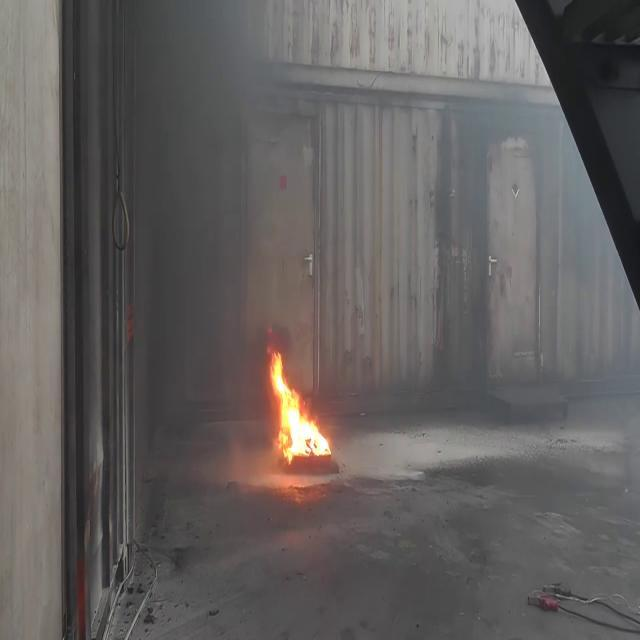Fire: (266, 340, 332, 466)
Smoke: (120, 8, 300, 336)
